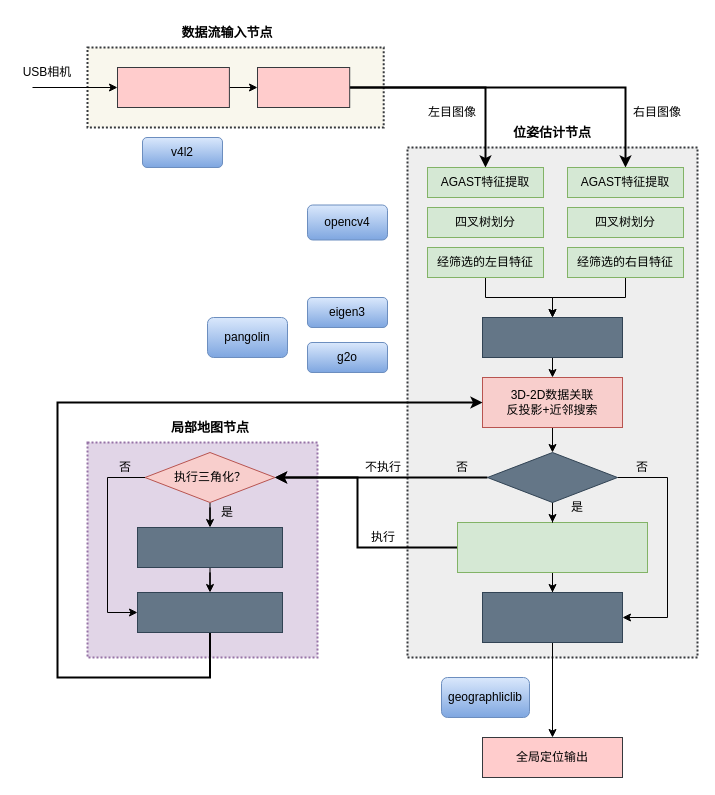
Some shapes in this 715 by 795 pixel diagram are drawn without their labels. The shapes that lost their labels are listed below. From the top down, each one's box as (x1, y1, x2, y2) in pixels, then its label:
(116, 66, 229, 108): 相机驱动
(256, 66, 350, 108): 前处理
(482, 316, 622, 358): 恒速运动模型 预测当前帧位姿
(486, 452, 618, 502): 需要三角化？
(136, 526, 282, 568): 三角化获得新地图点
(456, 522, 648, 572): BEBLID描述子计算 行搜索+四叉树查询匹配双目特征
(136, 592, 282, 632): 更新局部地图
(482, 592, 622, 642): g2o计算&更新位姿
